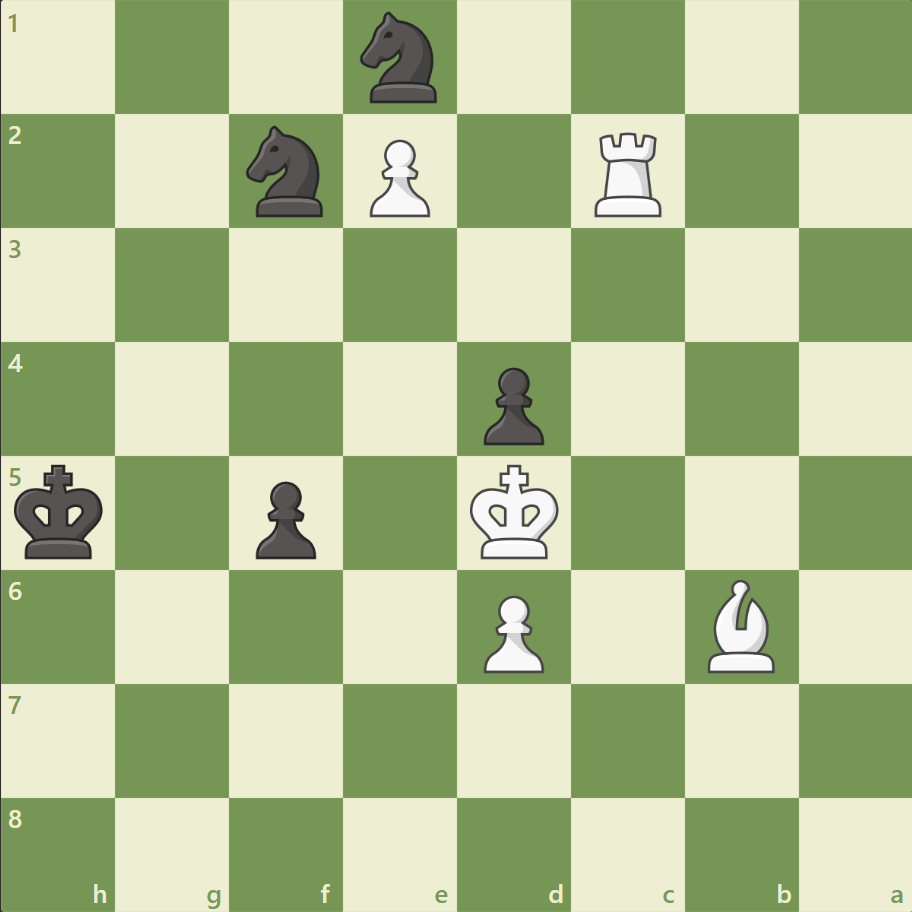B: (698, 574, 782, 676)
K: (465, 458, 565, 566)
P: (474, 586, 549, 677), (361, 132, 435, 223)
R: (587, 125, 670, 222)
k: (11, 458, 111, 566)
n: (351, 7, 449, 110), (238, 121, 335, 223)
p: (247, 473, 322, 564), (474, 359, 549, 450)
